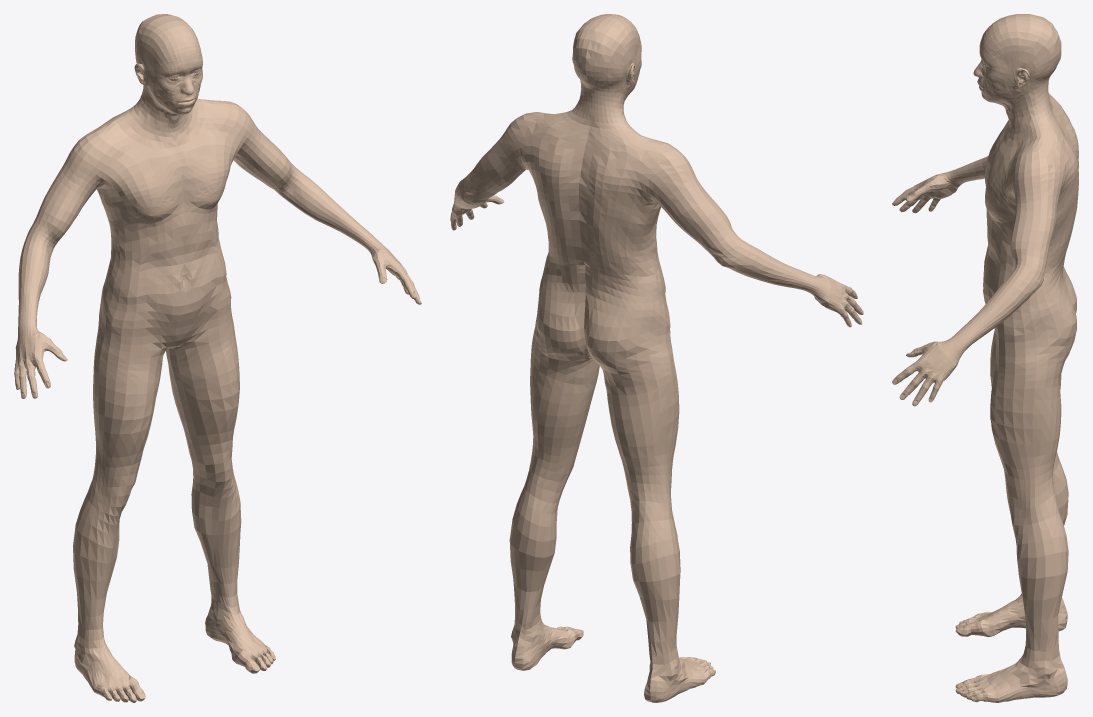
The model's file is male-mature-average-high.glb.
The picture shows the model from 3 angles, left to right: view 1: azimuth 30°, elevation 25°; view 2: azimuth 150°, elevation 25°; view 3: azimuth 270°, elevation 25°; orthographic projection.
Parts seen in each view (by area): view 1: world; view 2: world; view 3: world.
Boxes of the visible parts, <box> form: world: <box>14,14,421,702</box>; world: <box>450,14,863,702</box>; world: <box>892,14,1078,702</box>.
Size of the model in its own units: 1.25 by 1.94 by 0.5077.
